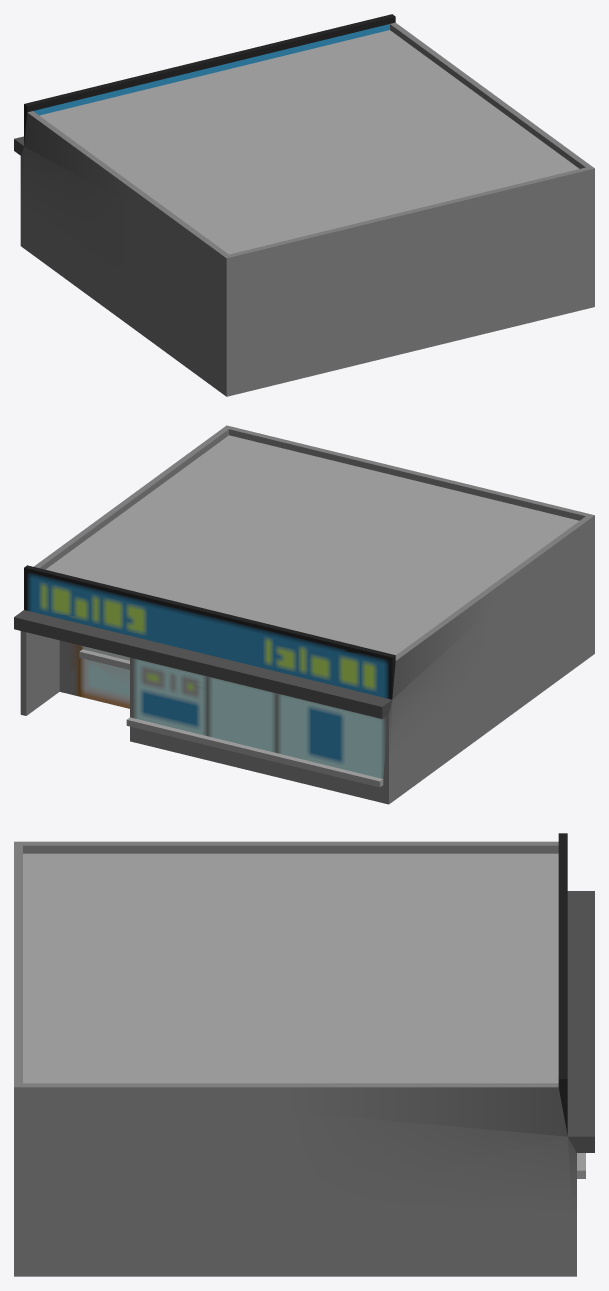
The model's file is obj_store04.fbx.
3 renders of one model, top to bottom at view 1: azimuth 30°, elevation 25°; view 2: azimuth 150°, elevation 25°; view 3: azimuth 270°, elevation 25°, orthographic. The views are drawn at different scales.
Parts seen in each view (by area): view 1: obj_store04; view 2: obj_store04; view 3: obj_store04.
Boxes of the visible parts, x1,y1,x2,y2 form: obj_store04: (14, 14, 594, 396); obj_store04: (14, 425, 594, 804); obj_store04: (14, 833, 594, 1276).
Bounding box in the file's own units: 6.4 × 6.4 × 2.4.
Materials: 1 (1 with a texture image).
